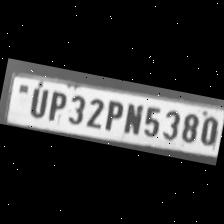0: (196, 113, 222, 148)
2: (82, 93, 106, 130)
3: (64, 90, 89, 126), (158, 106, 182, 142)
5: (138, 102, 164, 139)
8: (177, 109, 202, 145)
N: (120, 99, 144, 137)
P: (100, 96, 126, 134), (44, 86, 69, 124)
U: (24, 83, 50, 120)
